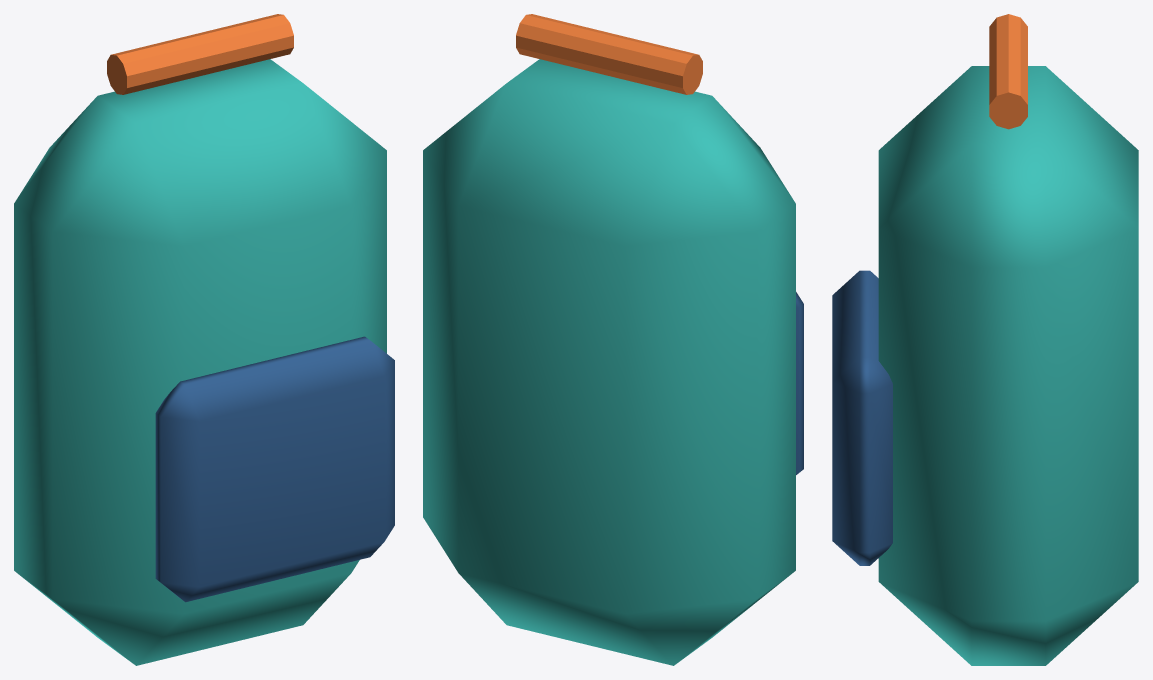
Rendered from Backpack.glb.
3 views of the same model, side by side, from view 1: azimuth 30°, elevation 25°; view 2: azimuth 150°, elevation 25°; view 3: azimuth 270°, elevation 25° (orthographic). The views are drawn at different scales.
Visible parts, largest first — view 1: Backpack; view 2: Backpack; view 3: Backpack.
Part boxes in pixels (x1,y1,x2,y2): Backpack: (14, 14, 394, 665); Backpack: (423, 14, 803, 665); Backpack: (832, 14, 1138, 665).
Size of the model in its own units: 0.4 by 0.682 by 0.33.
